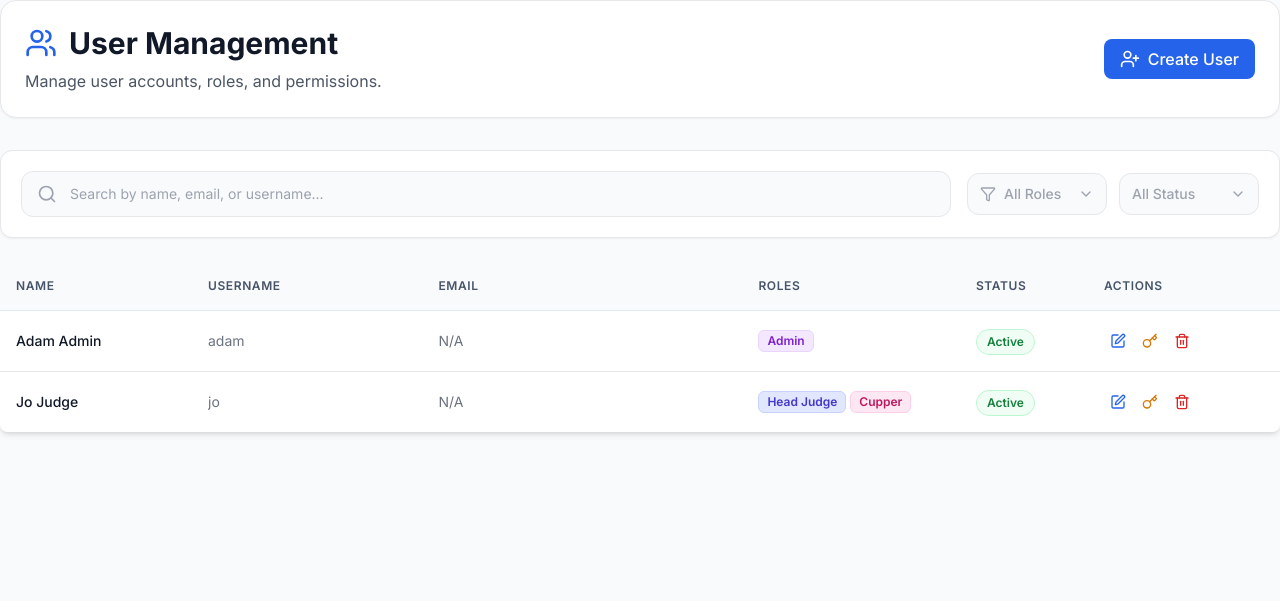
Test: User Management empty list › does not say no users match a filter when the filtered load fails
The width and height of the screenshot is (1280, 601).
Expected: the text "Jo Judge" is shown, [16,392,78,412]
Click the button "All Roles": (1037, 194) [967,173,1107,215]
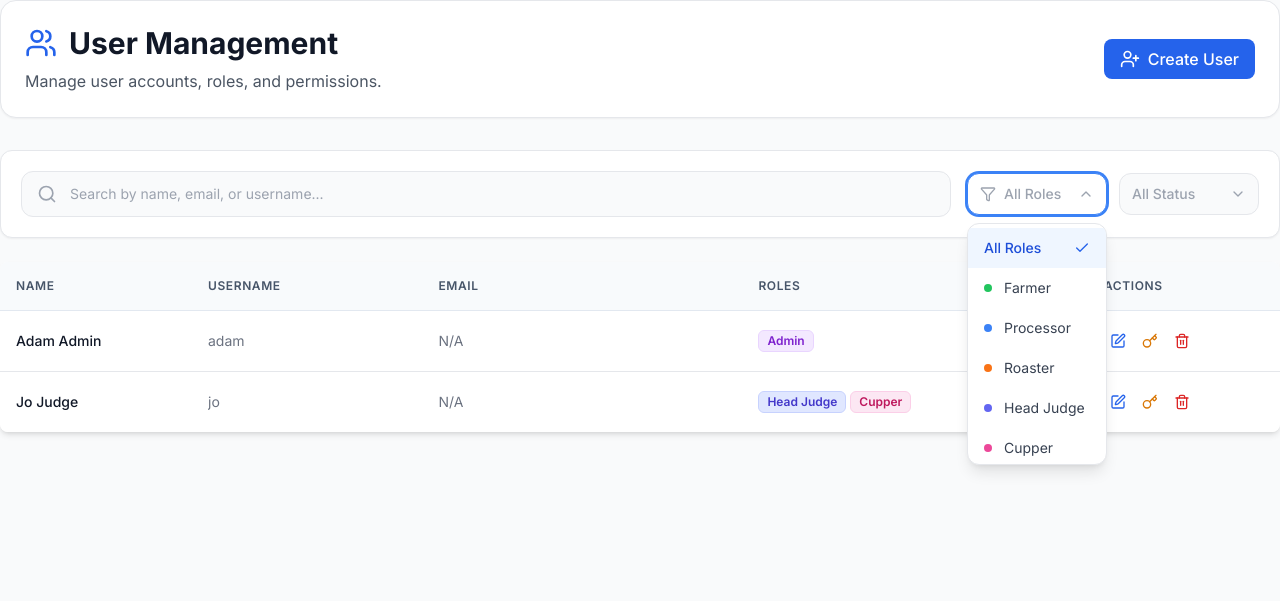
Click the button "Farmer": (1037, 288) [968,268,1106,308]
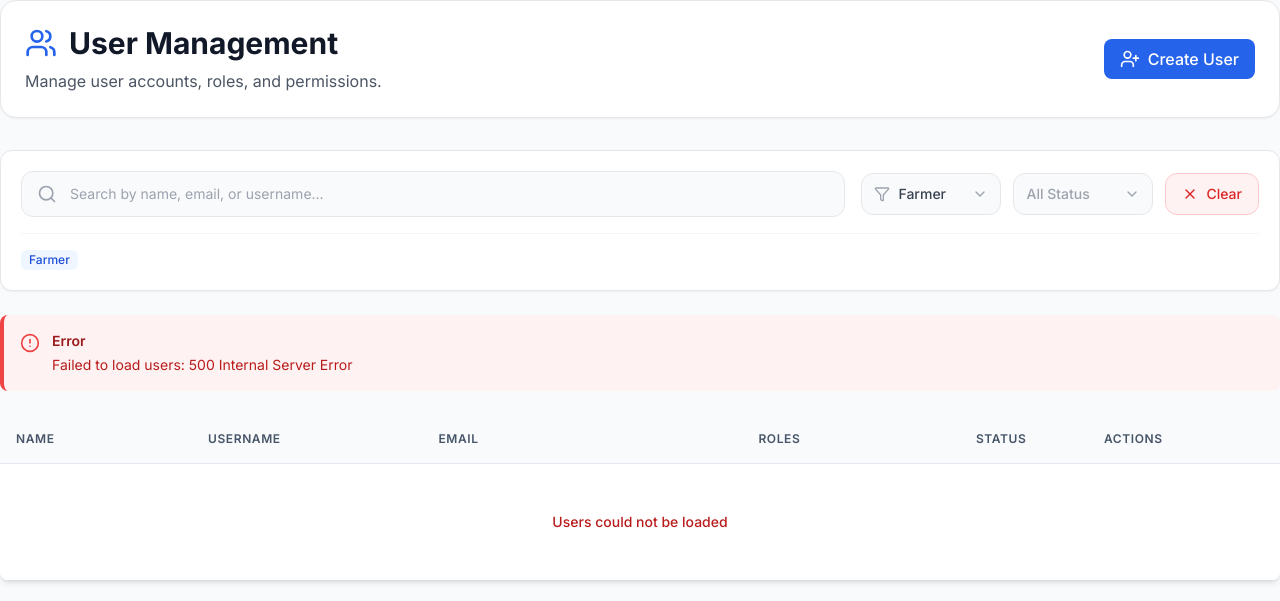
Expected: the text "Users could not be loaded" is shown, [552,513,728,530]
